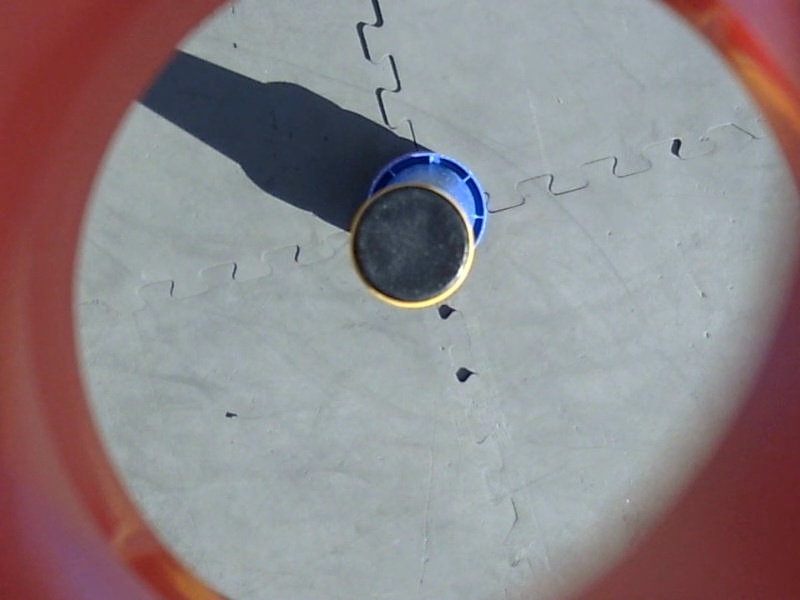tip: (340, 175, 484, 319)
